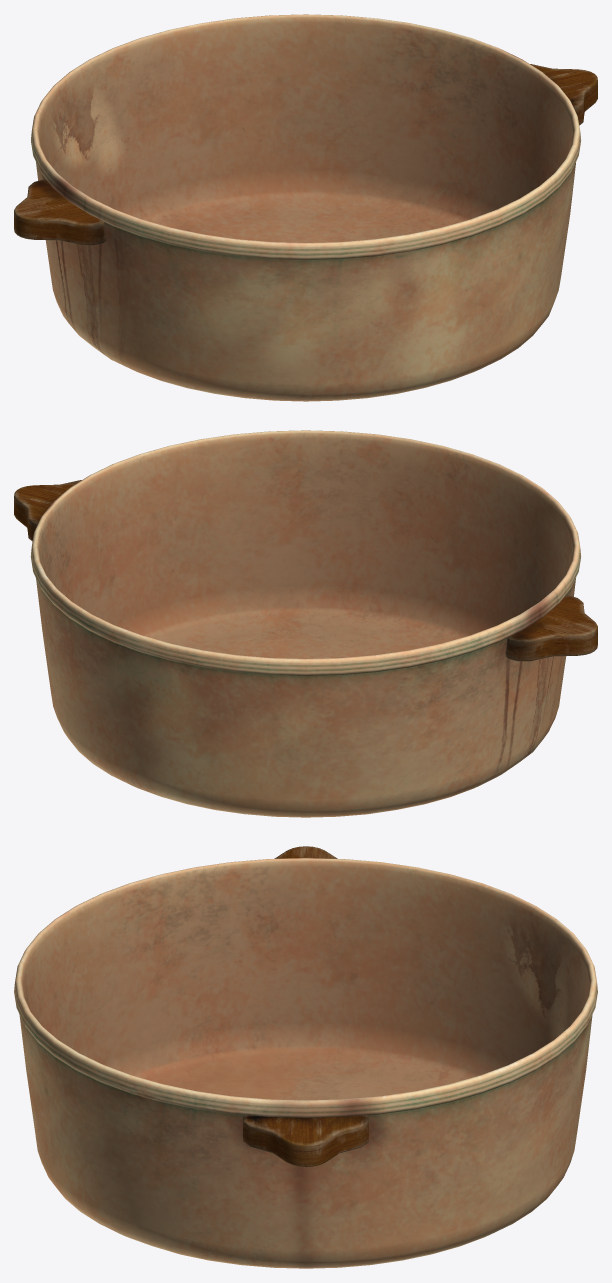
File: brass_pot_02_2k.gltf
3 views of the same model, one above another, from view 1: azimuth 30°, elevation 25°; view 2: azimuth 150°, elevation 25°; view 3: azimuth 270°, elevation 25° (orthographic). The views are drawn at different scales.
Visible parts, largest first — view 1: brass_pot_02; view 2: brass_pot_02; view 3: brass_pot_02.
Boxes of the visible parts, x1,y1,x2,y2 form: brass_pot_02: (14,14,597,401); brass_pot_02: (14,430,597,817); brass_pot_02: (14,846,597,1268).
Size of the model in its own units: 0.3667 by 0.1085 by 0.3023.
1 material, 1 textured.
